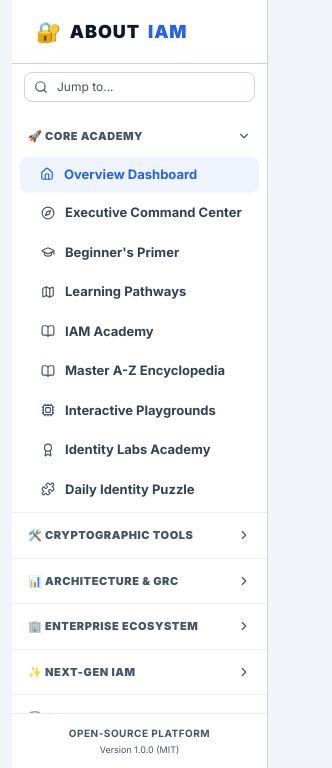
Scenario: Sidebar › filtering by a substring hides non-matching entries and keeps matching ones visible across sub-groups
In the field named "Filter sidebar navigation": (140, 87) [24,72,255,102], type "bulletin"
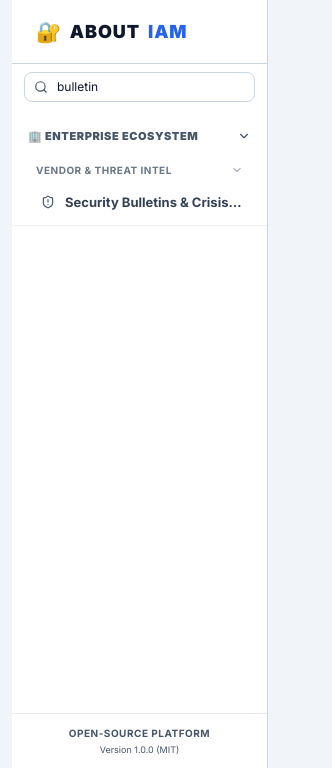
Result: the text "Security Bulletins & Crisis Game" is shown at [65,192,244,212]
Result: the link "Overview Dashboard" is gone
